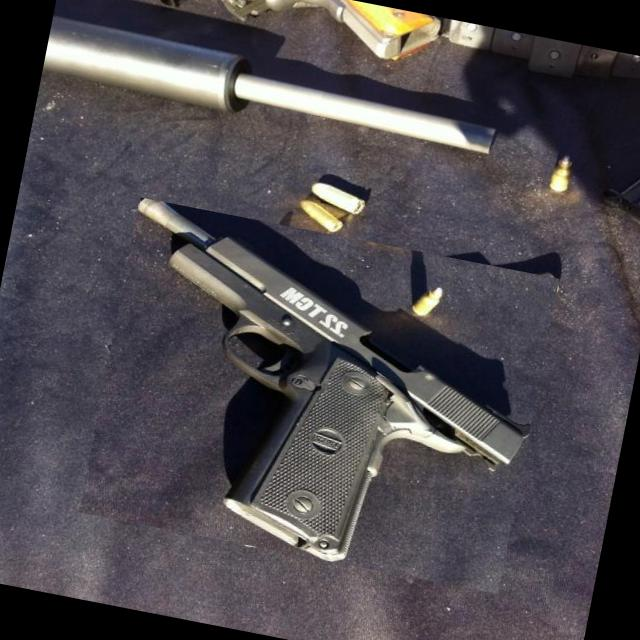Gun: (140, 199, 530, 562)
